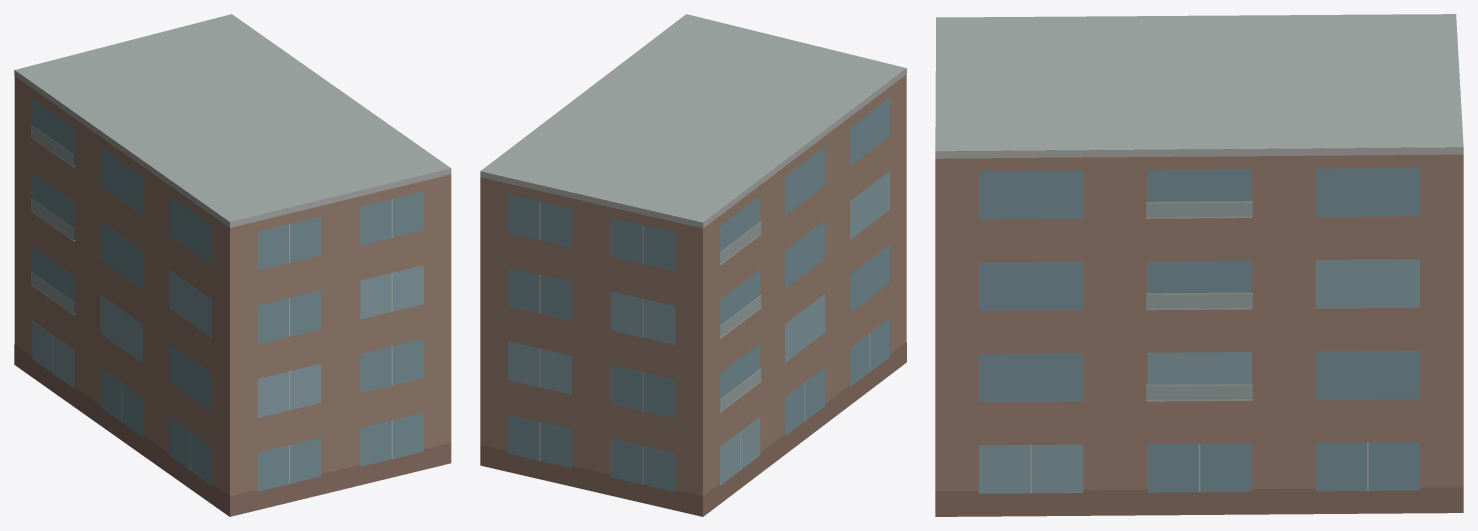
Rendered from survey-upis-32593081.glb.
3 renders of one model, left to right at view 1: azimuth 30°, elevation 25°; view 2: azimuth 150°, elevation 25°; view 3: azimuth 270°, elevation 25°, orthographic. The views are drawn at different scales.
Visible parts, largest first — view 1: survey-upis-32593081.tmp; view 2: survey-upis-32593081.tmp; view 3: survey-upis-32593081.tmp.
Boxes of the visible parts, x1=… form: survey-upis-32593081.tmp: x1=14, y1=14, x2=451, y2=516; survey-upis-32593081.tmp: x1=480, y1=14, x2=906, y2=516; survey-upis-32593081.tmp: x1=935, y1=14, x2=1463, y2=516.
Size of the model in its own units: 9.85 by 12.2 by 15.99.
